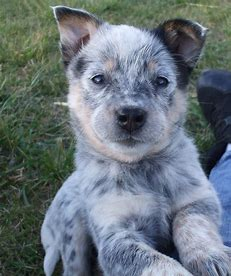dog: (33, 7, 227, 272)
